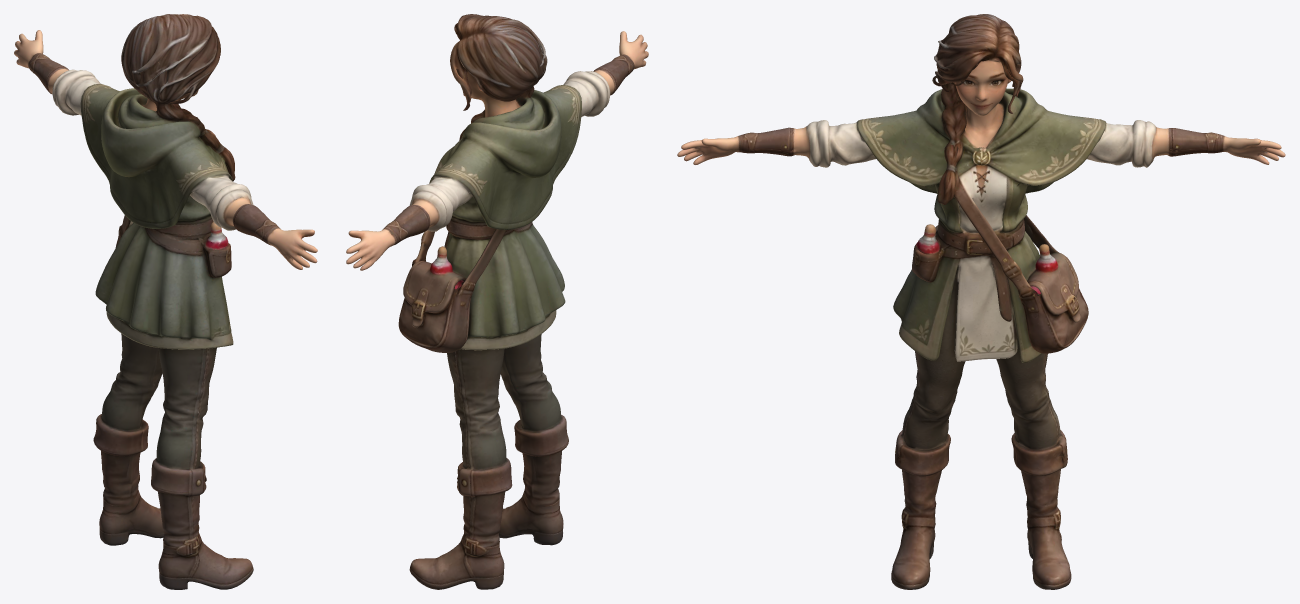
File: FantasyAdventurer_Source.fbx
The picture shows the model from 3 angles, left to right: view 1: azimuth 30°, elevation 25°; view 2: azimuth 150°, elevation 25°; view 3: azimuth 270°, elevation 25°; orthographic projection.
Visible parts, largest first — view 1: tripo_node_9d8fe12d; view 2: tripo_node_9d8fe12d; view 3: tripo_node_9d8fe12d.
Boxes of the visible parts, bbox=[...] form: tripo_node_9d8fe12d: bbox=[14, 14, 317, 589]; tripo_node_9d8fe12d: bbox=[346, 14, 648, 589]; tripo_node_9d8fe12d: bbox=[677, 14, 1285, 589].
Size of the model in its own units: 22.18 by 97.79 by 97.22.
1 material, 1 textured.
